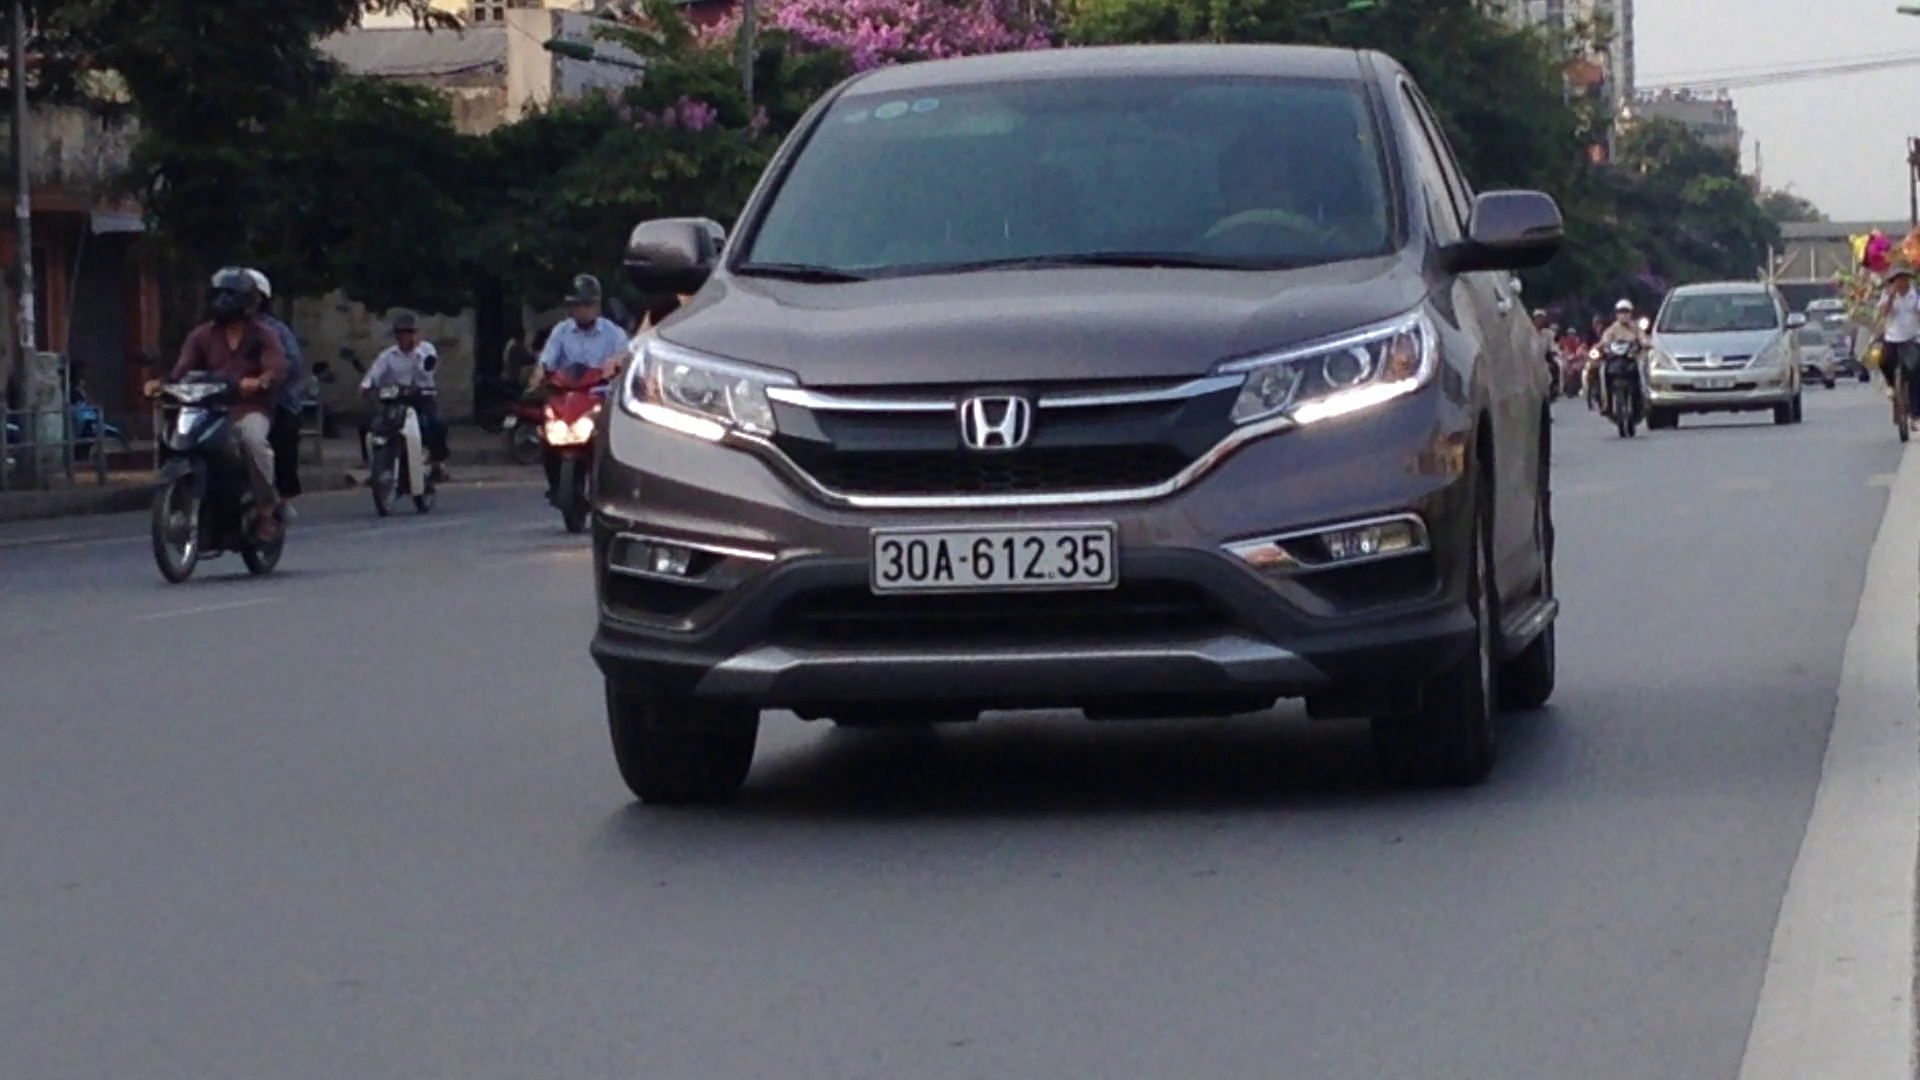vehicle-plate: (863, 520, 1123, 594)
